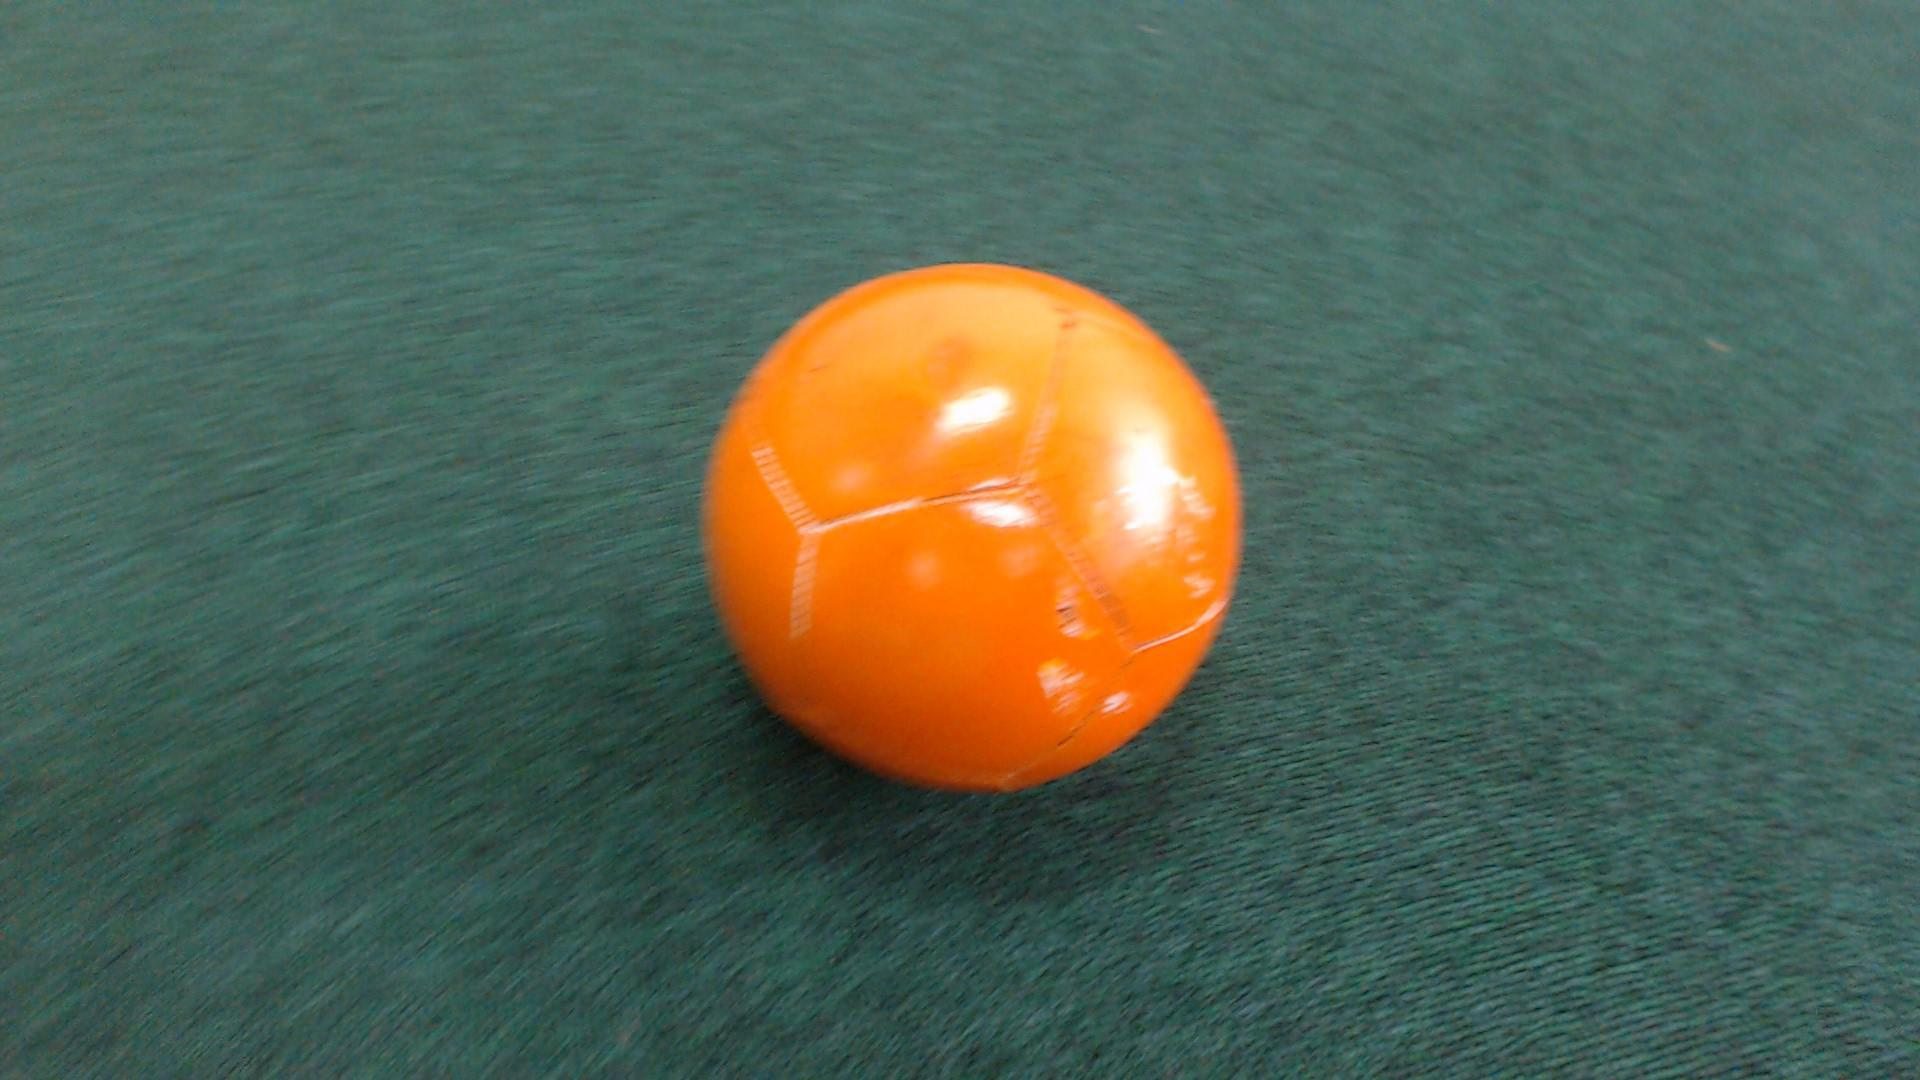bola: (667, 245, 1261, 819)
